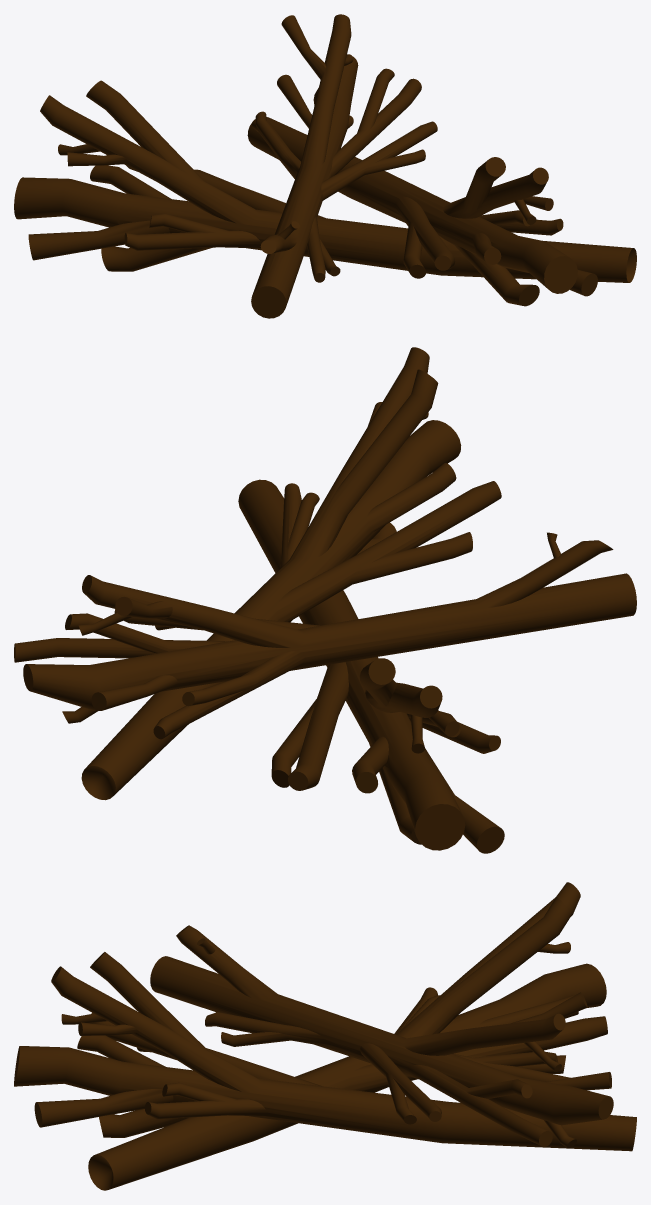
File: 48_Stick_Pile1.fbx
3 renders of one model, top to bottom at view 1: azimuth 30°, elevation 25°; view 2: azimuth 150°, elevation 25°; view 3: azimuth 270°, elevation 25°, orthographic. The views are drawn at different scales.
Visible parts, largest first — view 1: pCylinder174; view 2: pCylinder174; view 3: pCylinder174.
Boxes of the visible parts, <box> form: pCylinder174: <box>14,14,636,318</box>; pCylinder174: <box>14,347,636,853</box>; pCylinder174: <box>14,882,636,1190</box>.
Size of the model in its own units: 1.46 by 0.6941 by 1.79.
